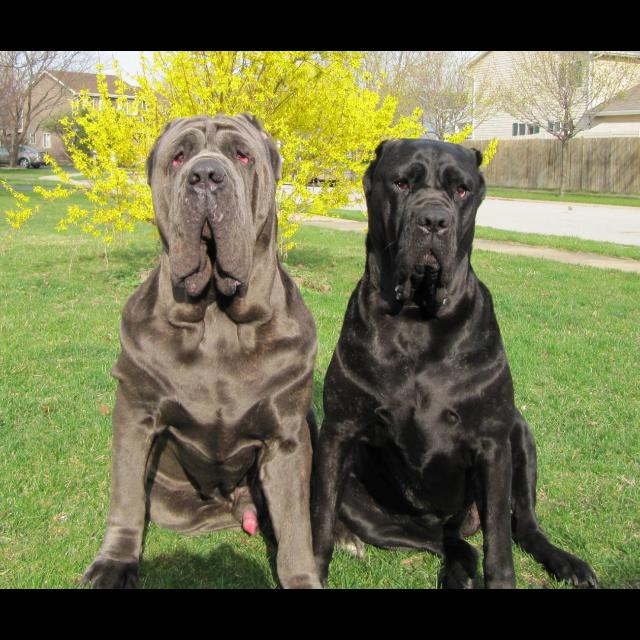mastino_napoletano: (311, 137, 600, 589), (77, 112, 326, 590)
